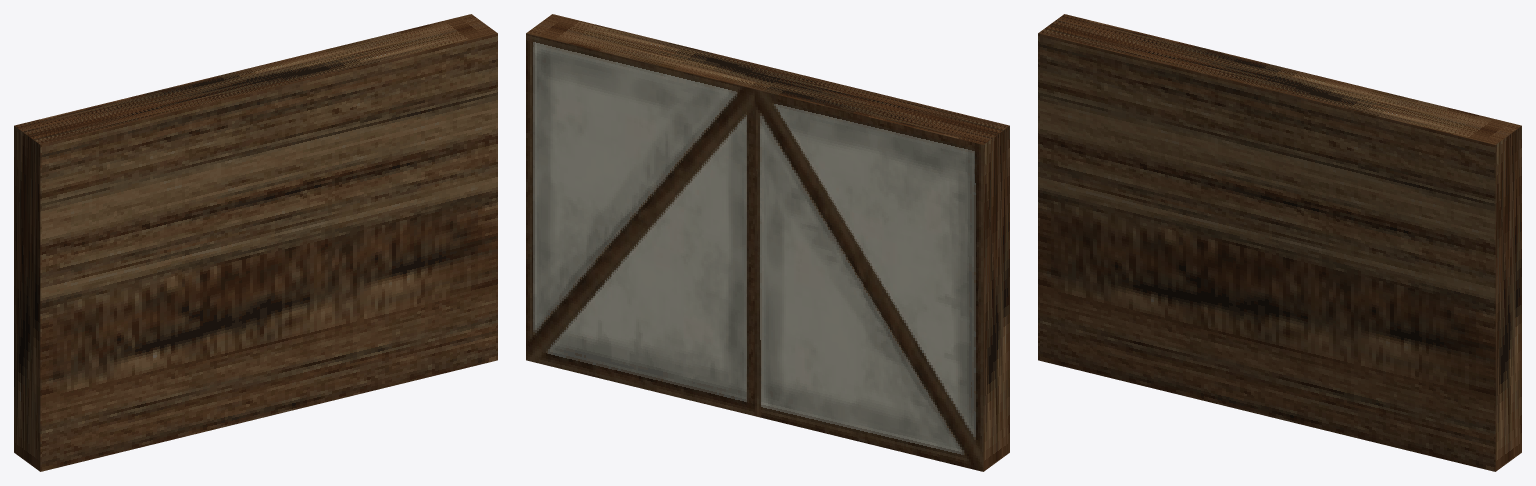
File: tavern_wall_half.glb
3 renders of one model, left to right at view 1: azimuth 30°, elevation 25°; view 2: azimuth 150°, elevation 25°; view 3: azimuth 330°, elevation 25°, orthographic.
Visible parts, largest first — view 1: tavern_wall_half; view 2: tavern_wall_half; view 3: tavern_wall_half.
Part boxes in pixels (x1,y1,x2,y2): tavern_wall_half: [14, 14, 497, 471]; tavern_wall_half: [526, 14, 1009, 471]; tavern_wall_half: [1038, 14, 1521, 471].
Bounding box in the file's own units: 3 × 2.05 × 0.3001.
Materials: 1 (1 with a texture image).
